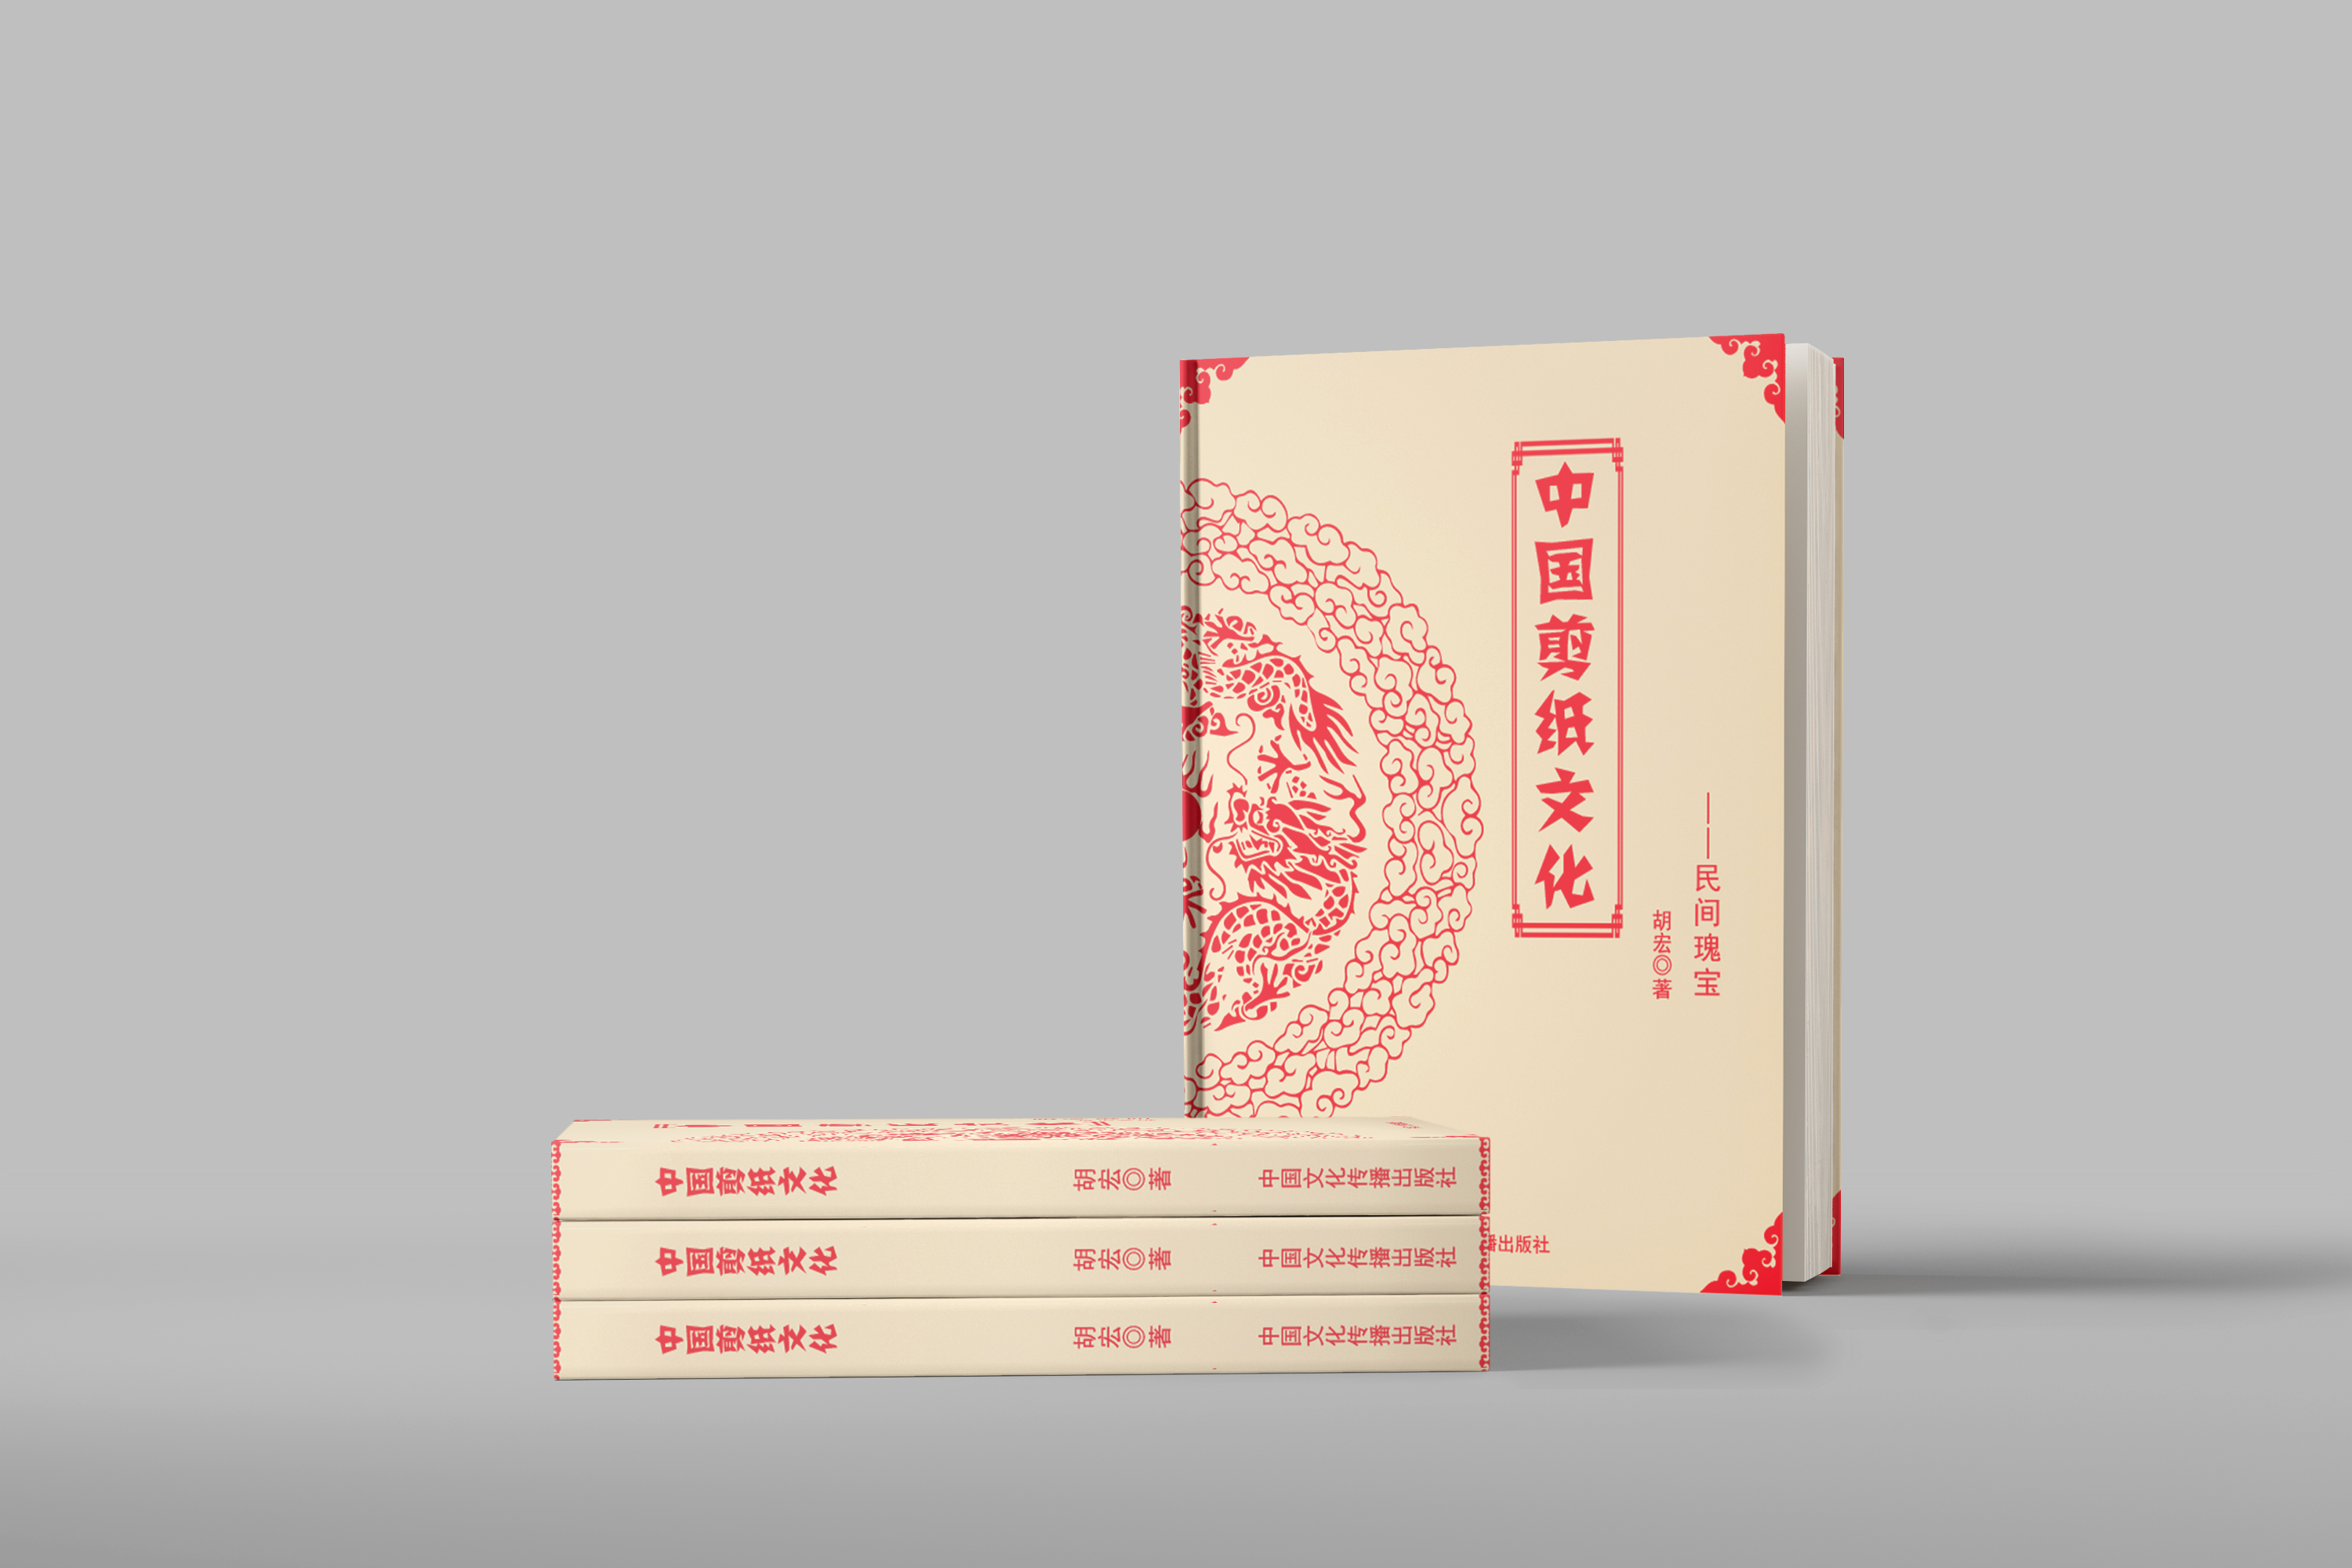book: (1171, 334, 1839, 1293), (553, 1115, 1496, 1374)
